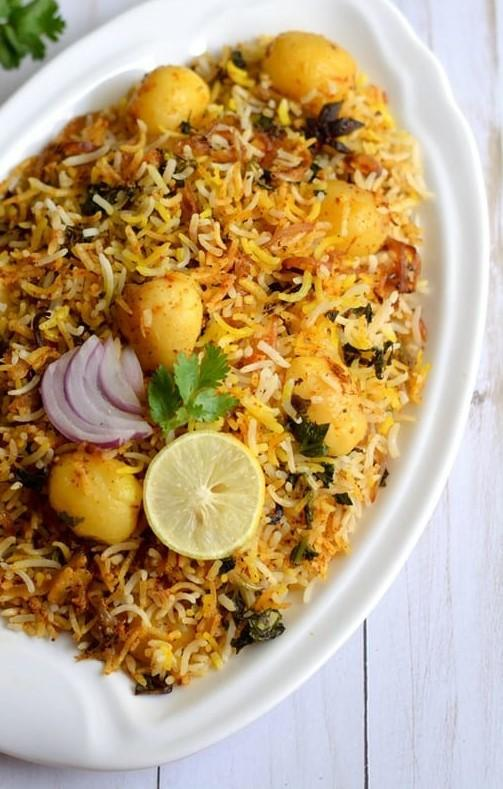Biryani: (0, 27, 427, 689)
